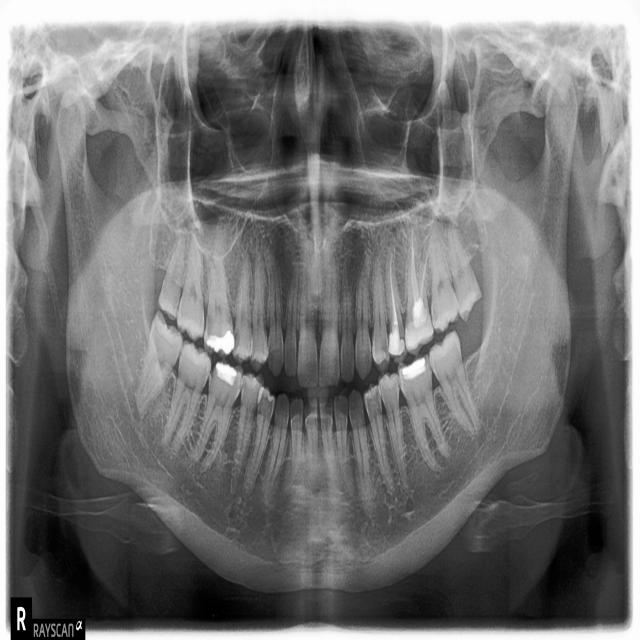mandibula: (56, 75, 579, 595)
